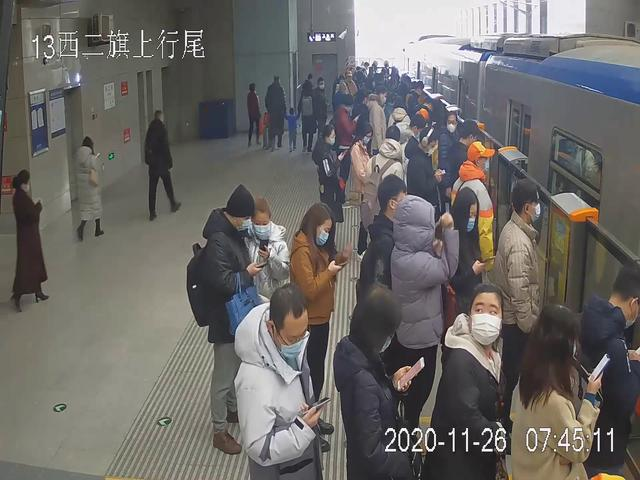person: (188, 184, 258, 460), (235, 284, 329, 480), (391, 194, 458, 466), (332, 285, 421, 480), (427, 283, 507, 480), (288, 201, 343, 448), (497, 177, 548, 443), (8, 170, 52, 312), (312, 126, 353, 263), (141, 109, 181, 222), (72, 137, 105, 243), (264, 75, 287, 151), (297, 80, 318, 156), (245, 81, 265, 147)
